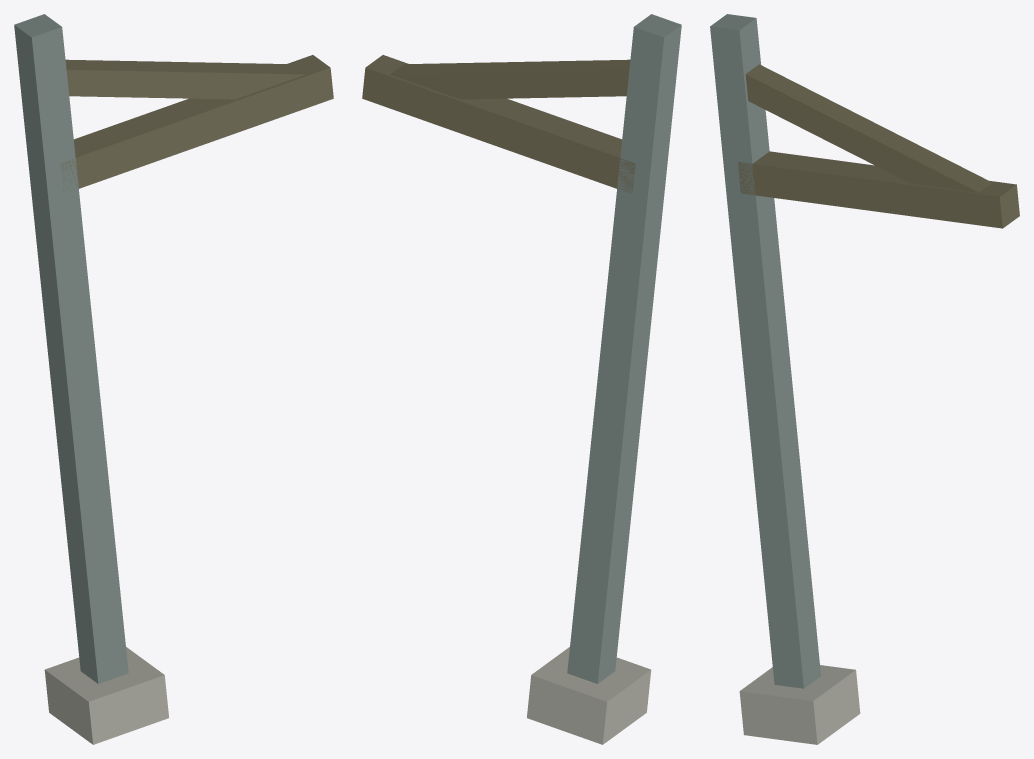
Rendered from SM_poste_catenaria_v1_LOD1.fbx.
3 renders of one model, left to right at view 1: azimuth 30°, elevation 25°; view 2: azimuth 150°, elevation 25°; view 3: azimuth 330°, elevation 25°, orthographic. The views are drawn at different scales.
Visible parts, largest first — view 1: SM_bloques.poste_catenaria_v1_LOD1; view 2: SM_bloques.poste_catenaria_v1_LOD1; view 3: SM_bloques.poste_catenaria_v1_LOD1.
Boxes of the visible parts, x1=… form: SM_bloques.poste_catenaria_v1_LOD1: x1=14, y1=14, x2=333, y2=744; SM_bloques.poste_catenaria_v1_LOD1: x1=362, y1=14, x2=681, y2=744; SM_bloques.poste_catenaria_v1_LOD1: x1=710, y1=14, x2=1019, y2=744.
Size of the model in its own units: 3.56 by 8.02 by 0.9.
